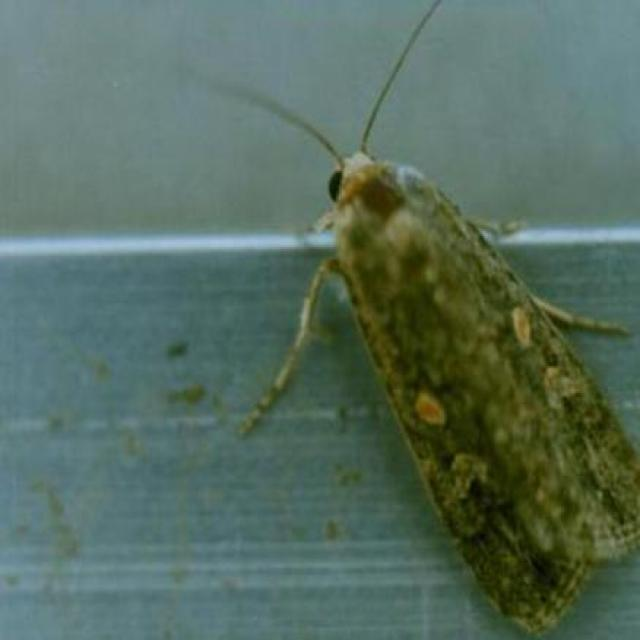BeetArmyWorm-Adult-: (255, 86, 639, 626)
